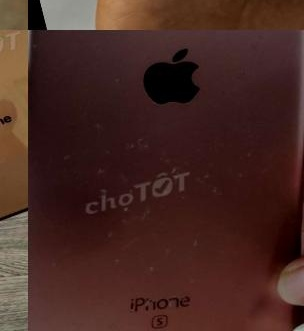scratch: (91, 179, 255, 310), (184, 121, 294, 210), (180, 30, 304, 78), (117, 124, 174, 171), (82, 100, 122, 142)
